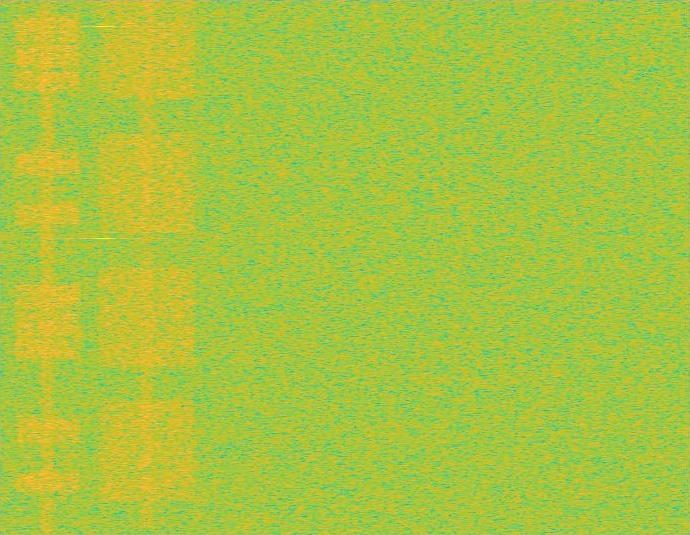5G: (95, 0, 199, 534)
DSSS: (40, 0, 55, 534), (140, 0, 154, 534)
LTE: (13, 0, 82, 534)
Radar: (97, 0, 111, 534)
